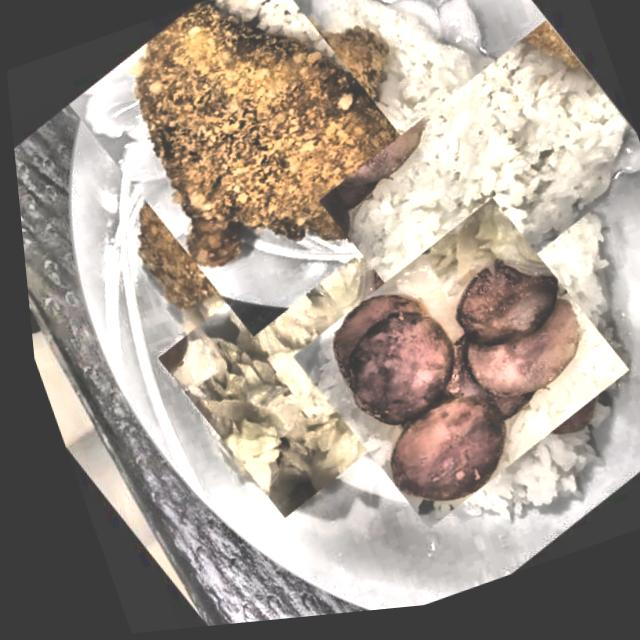Food: (25, 0, 475, 369), (255, 175, 640, 567), (288, 0, 640, 381), (127, 229, 433, 547)
